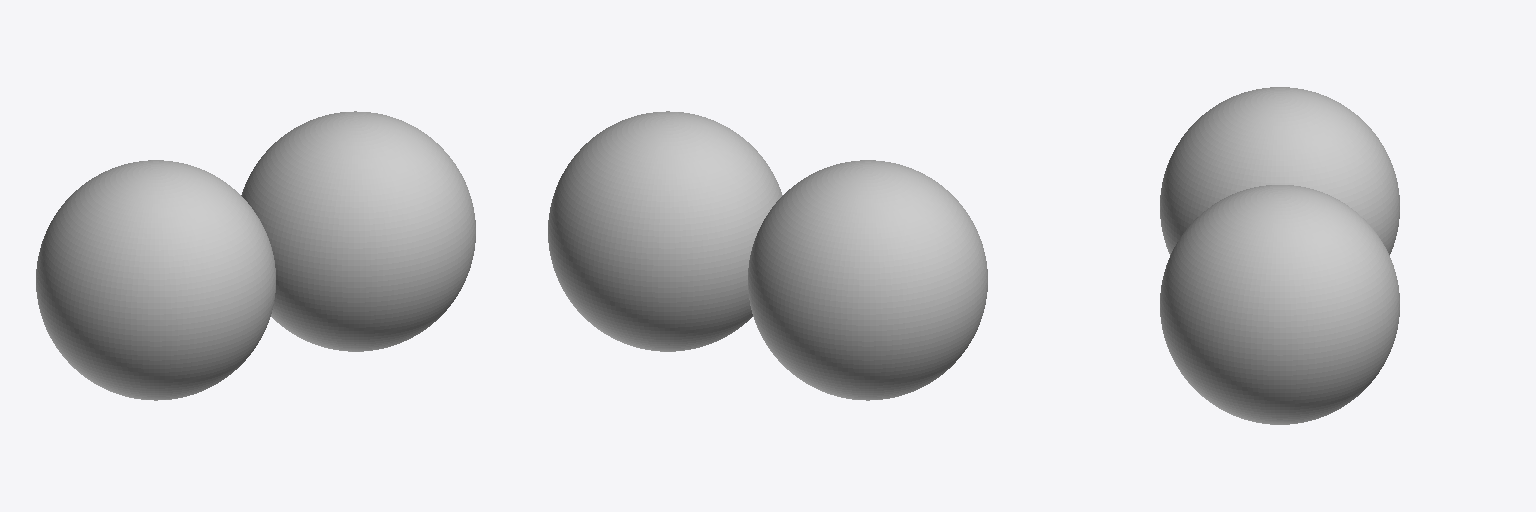
The model's file is eye.obj.
3 renders of one model, left to right at view 1: azimuth 30°, elevation 25°; view 2: azimuth 150°, elevation 25°; view 3: azimuth 270°, elevation 25°, orthographic.
Parts seen in each view (by area): view 1: Group11884; view 2: Group11884; view 3: Group11884.
Boxes of the visible parts, box(x1,y1,x2,y2) form: Group11884: box(36, 111, 475, 400); Group11884: box(548, 111, 987, 400); Group11884: box(1160, 87, 1399, 424).
Size of the model in its own units: 0.2954 by 0.1507 by 0.1507.